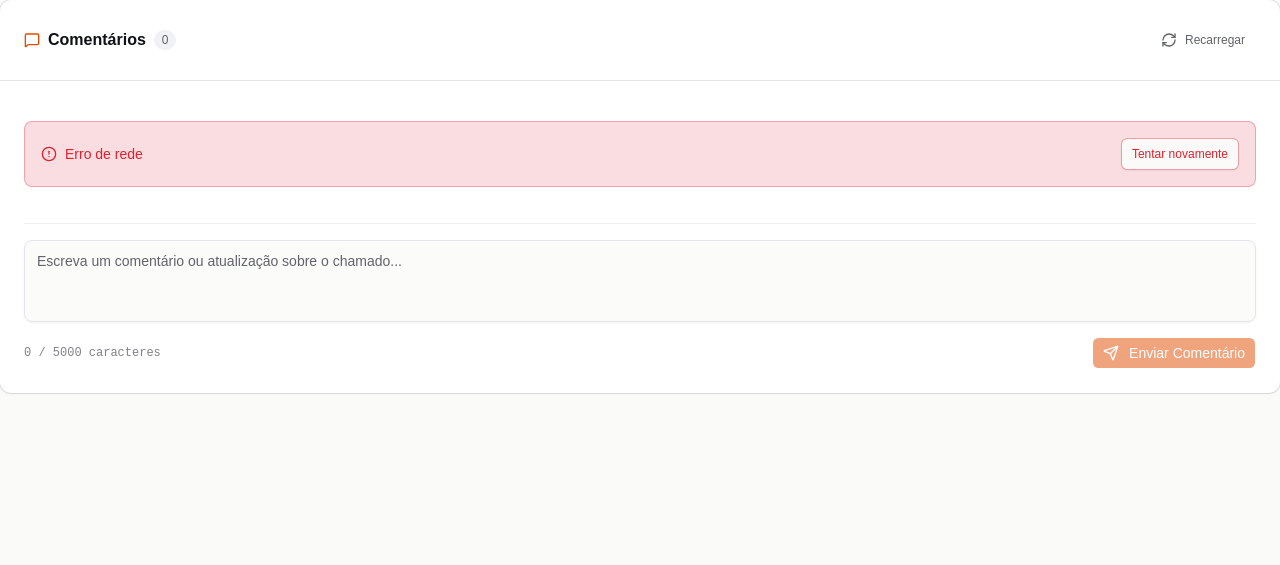
Test case: TicketCommentsSection › deve exibir mensagem de erro e permitir tentar novamente quando a busca falhar
Expected: the text "Erro de rede" is shown, [65, 144, 143, 164]
Click the button "Tentar novamente" at (1180, 154), box [1121, 138, 1239, 170]
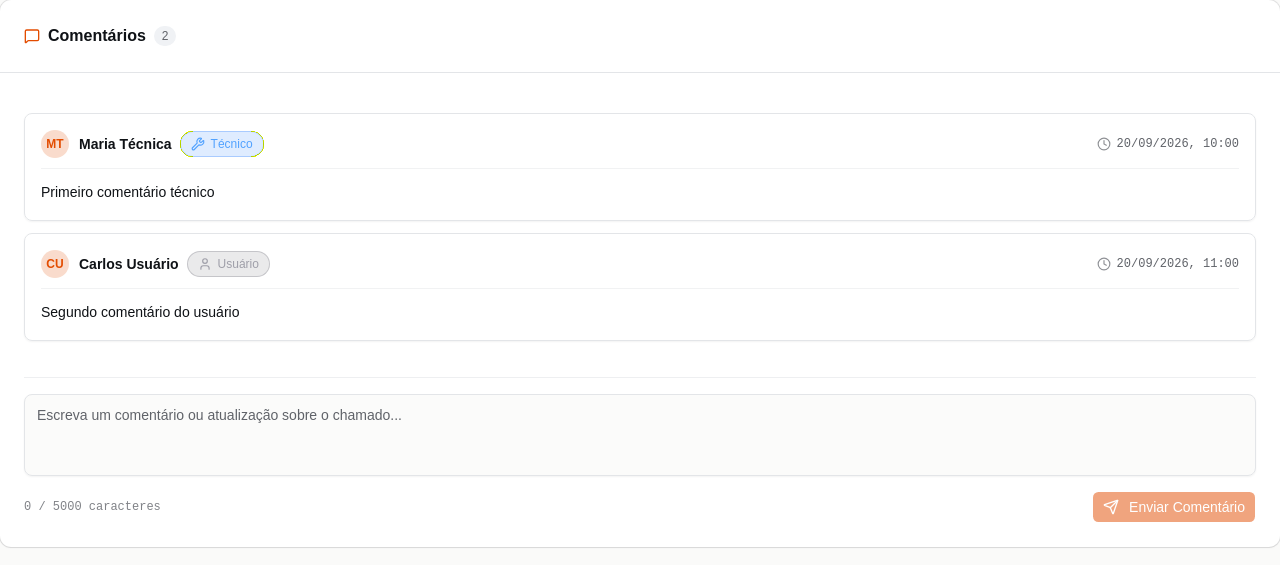
Now the text "Primeiro comentário técnico" is shown, box [41, 184, 214, 200]
